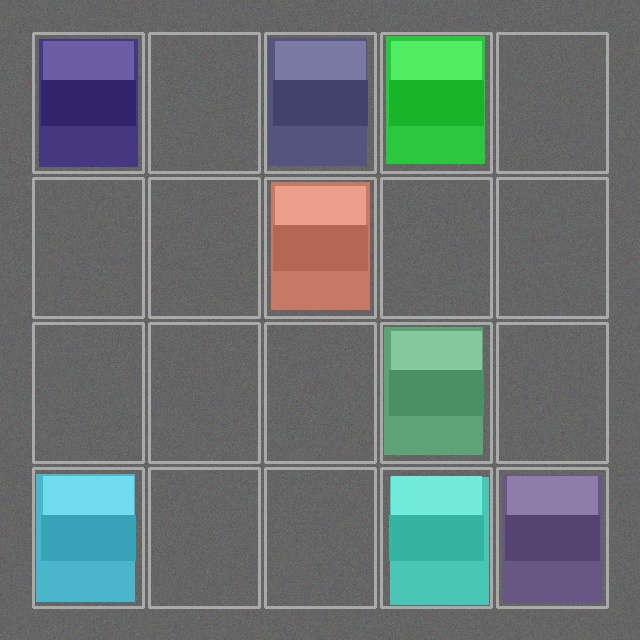space-empty: (151, 35, 257, 170), (499, 35, 605, 170), (35, 180, 141, 315), (151, 180, 257, 315), (383, 180, 489, 315), (499, 180, 605, 315), (35, 325, 141, 460), (151, 325, 257, 460), (267, 325, 373, 460), (499, 325, 605, 460), (151, 470, 257, 605), (267, 470, 373, 605)
space-occupied: (35, 35, 141, 170), (267, 35, 373, 170), (383, 35, 489, 170), (267, 180, 373, 315), (383, 325, 489, 460), (35, 470, 141, 605), (383, 470, 489, 605), (499, 470, 605, 605)
